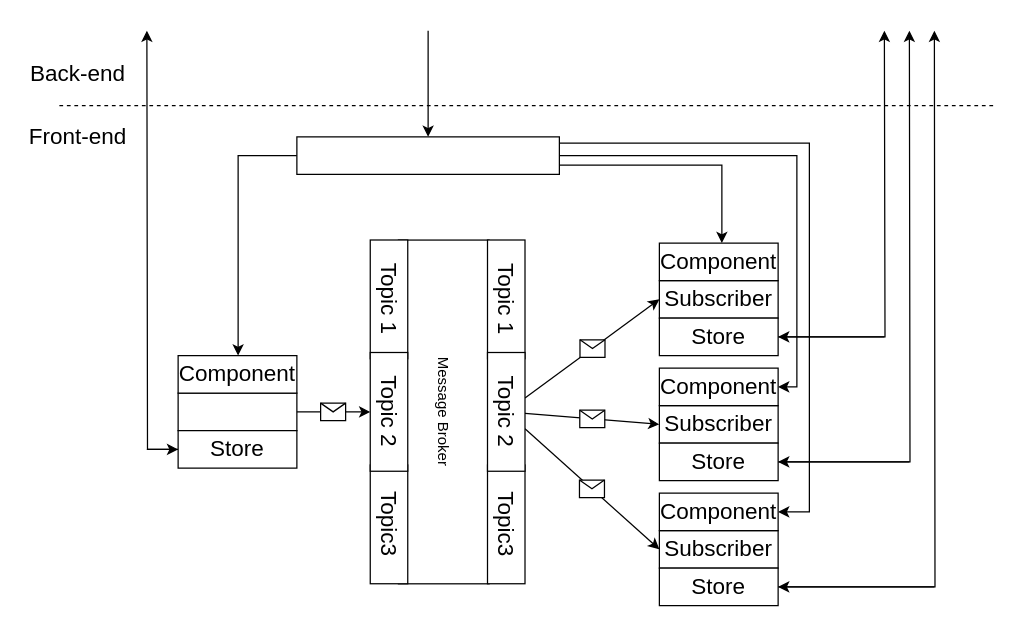
Some shapes in this 1020 by 628 pixel diagram are drawn without their labels. Here are the shapes that lost their labels. From the top down, the centre of each, then its label:
the point at 427,155: UI
the point at 237,411: Publisher
